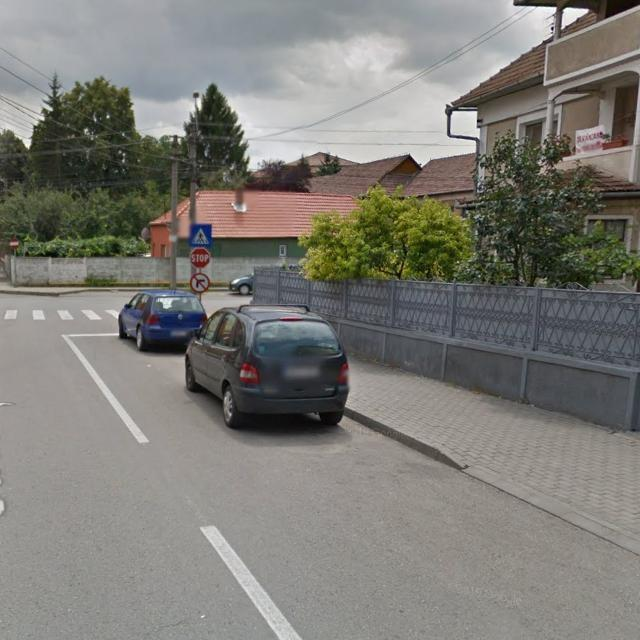info_crosswalk: (189, 224, 213, 248)
prio_stop: (191, 248, 211, 268)
